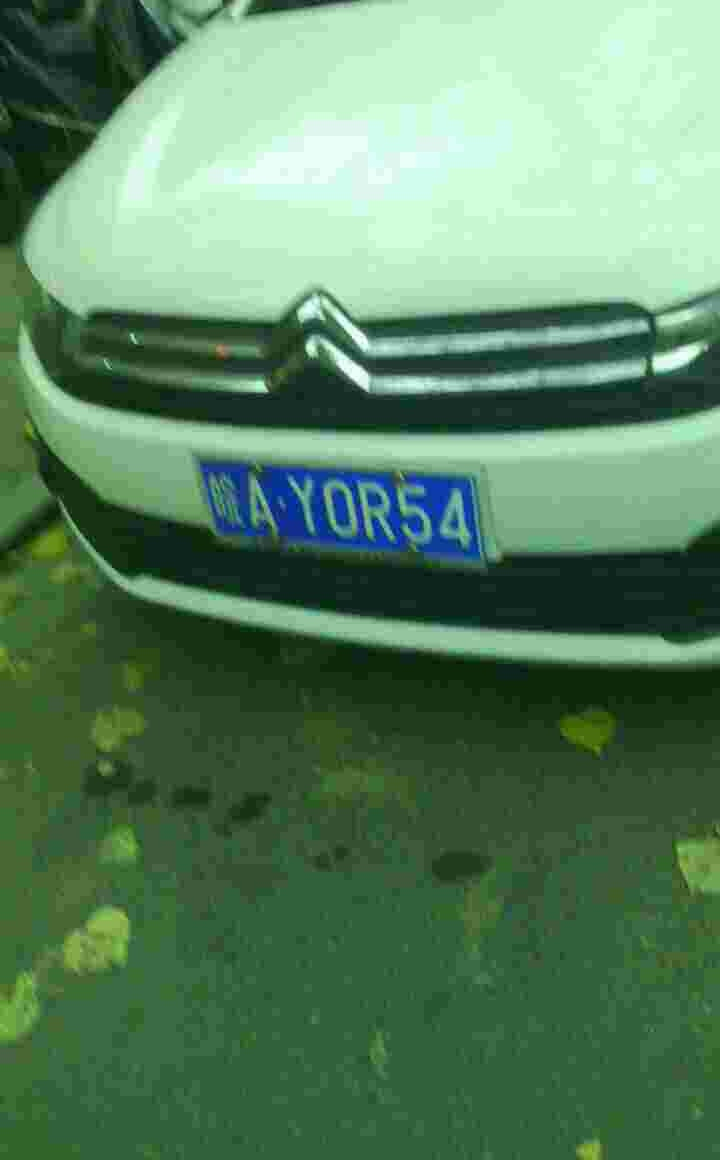license_plate: (200, 466, 500, 569)
